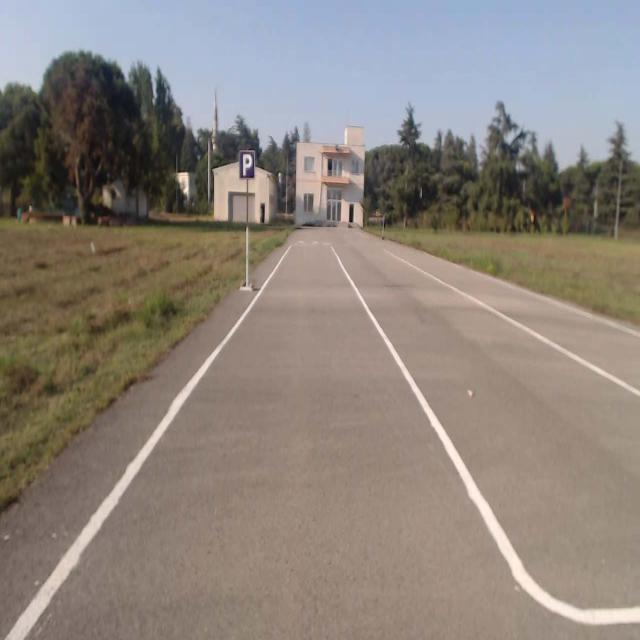park: (239, 151, 254, 178)
